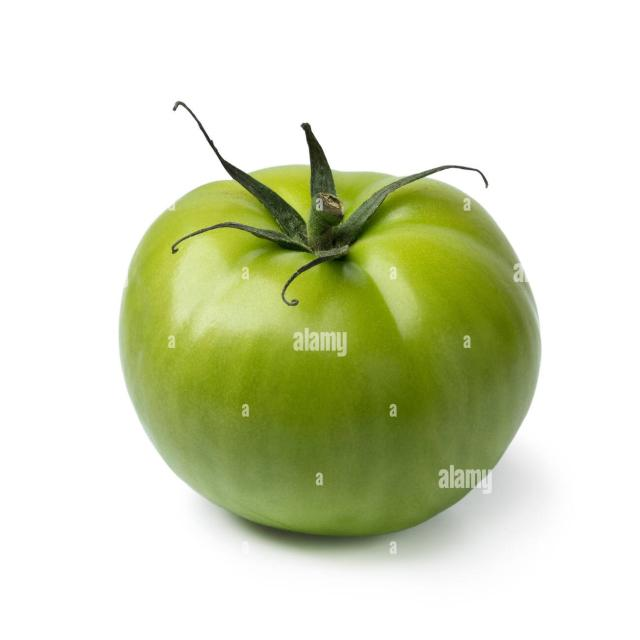yesil: (84, 132, 551, 549)
